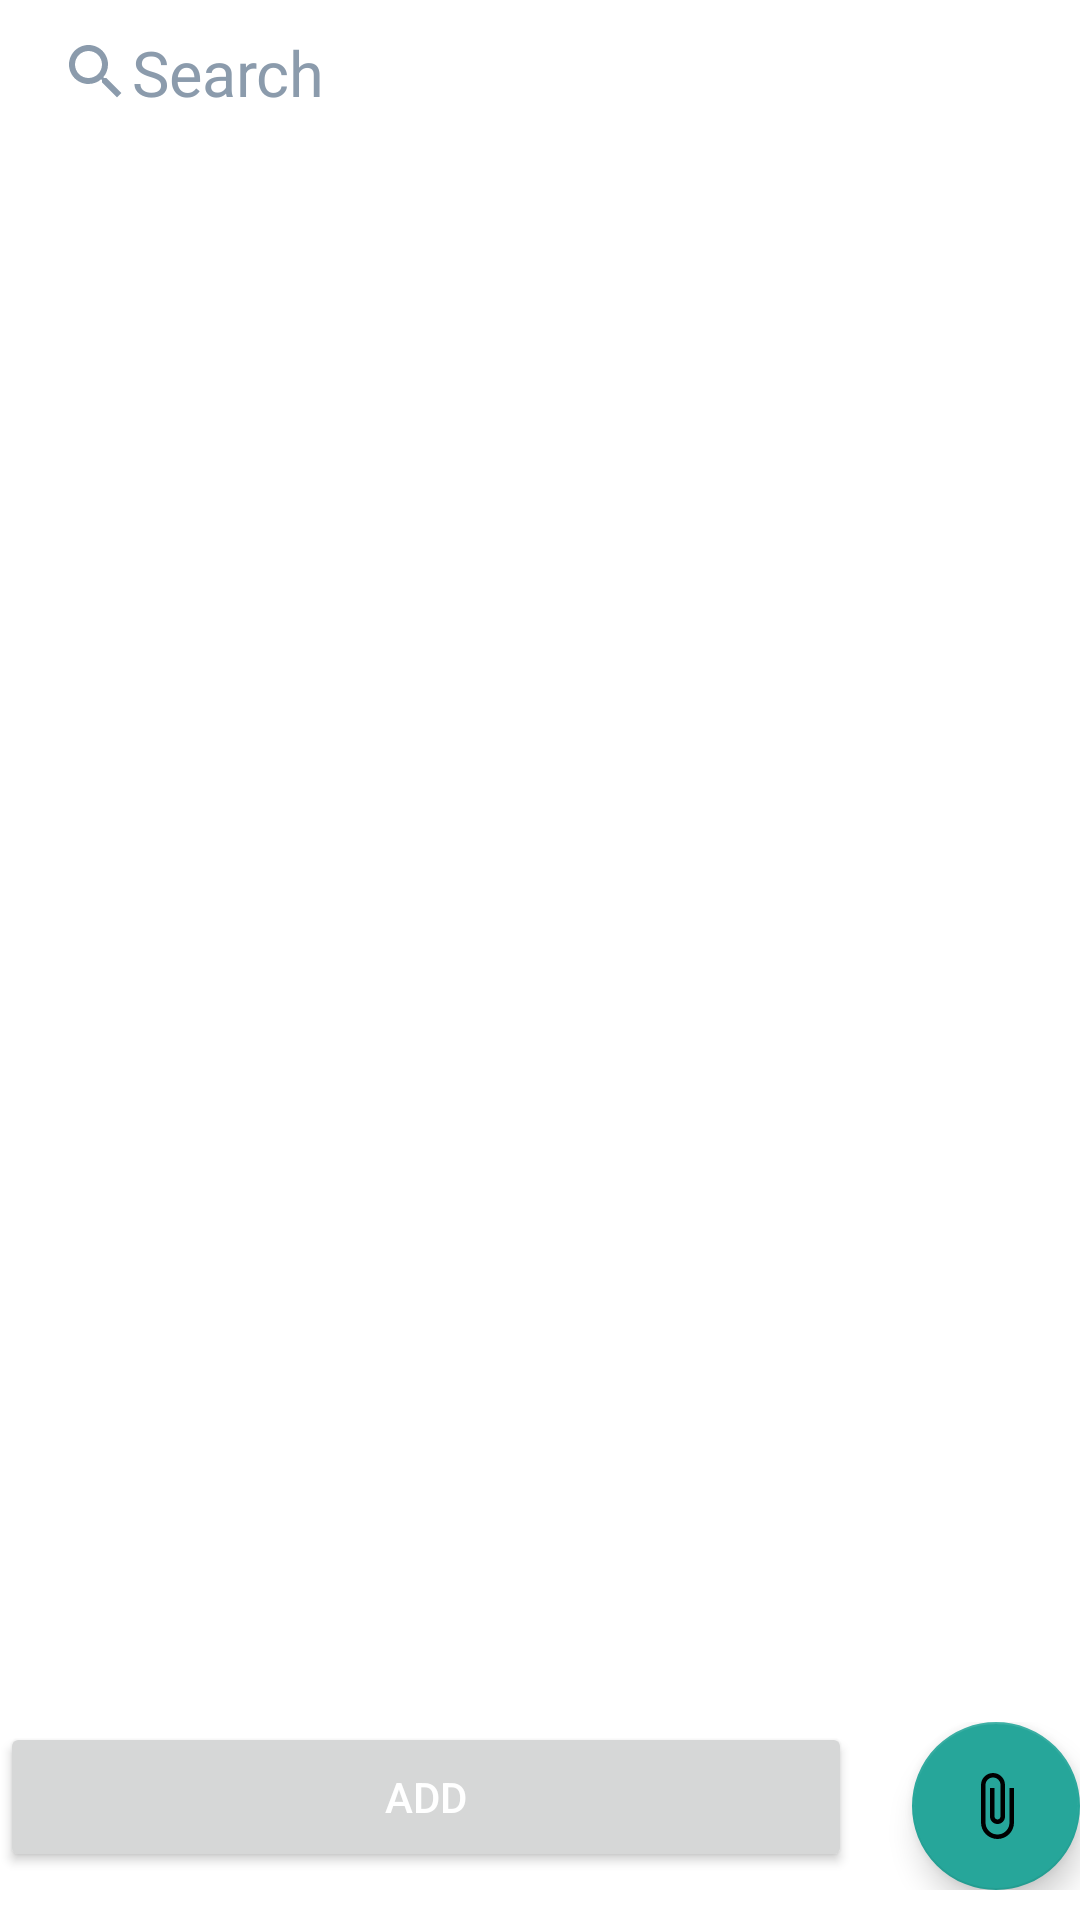

Icons on this 1080*1920 Android screen, each with the point to tap as (x,y):
attach file: (996,1806)
